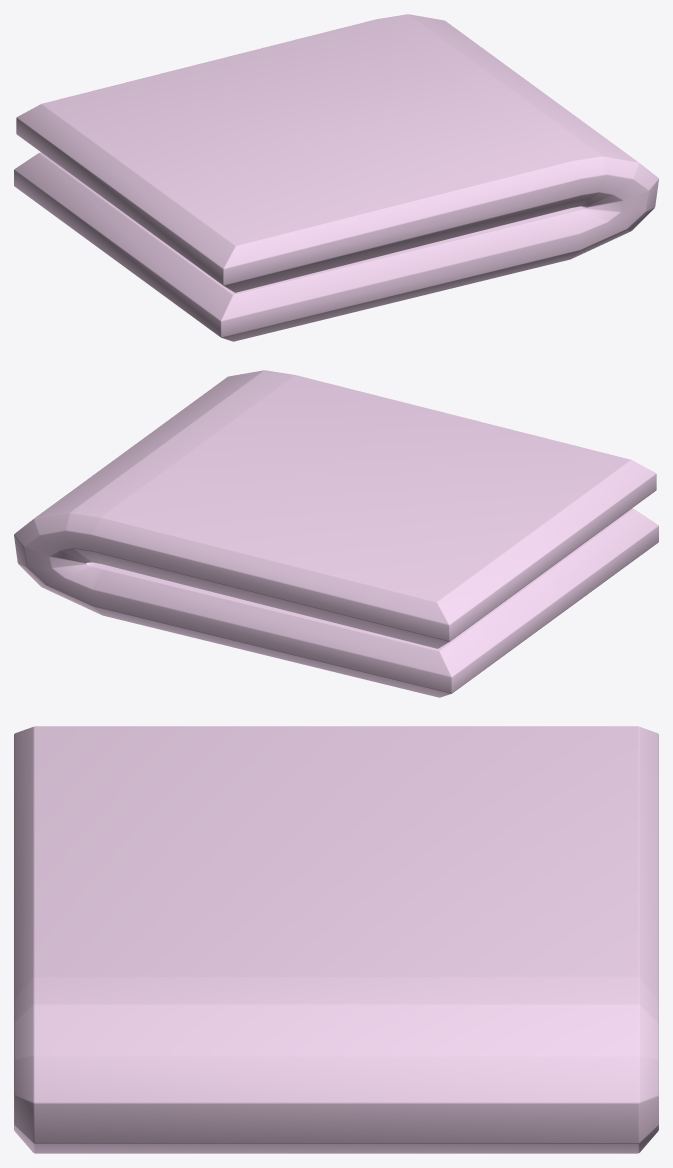
The model's file is Towel.fbx.
3 renders of one model, top to bottom at view 1: azimuth 30°, elevation 25°; view 2: azimuth 150°, elevation 25°; view 3: azimuth 270°, elevation 25°, orthographic. The views are drawn at different scales.
Parts seen in each view (by area): view 1: Cube; view 2: Cube; view 3: Cube.
Part boxes in pixels (x1,y1,x2,y2): Cube: [14, 14, 658, 341]; Cube: [14, 370, 658, 697]; Cube: [14, 726, 658, 1153].
Bounding box in the file's own units: 345 × 428 × 90.1.
